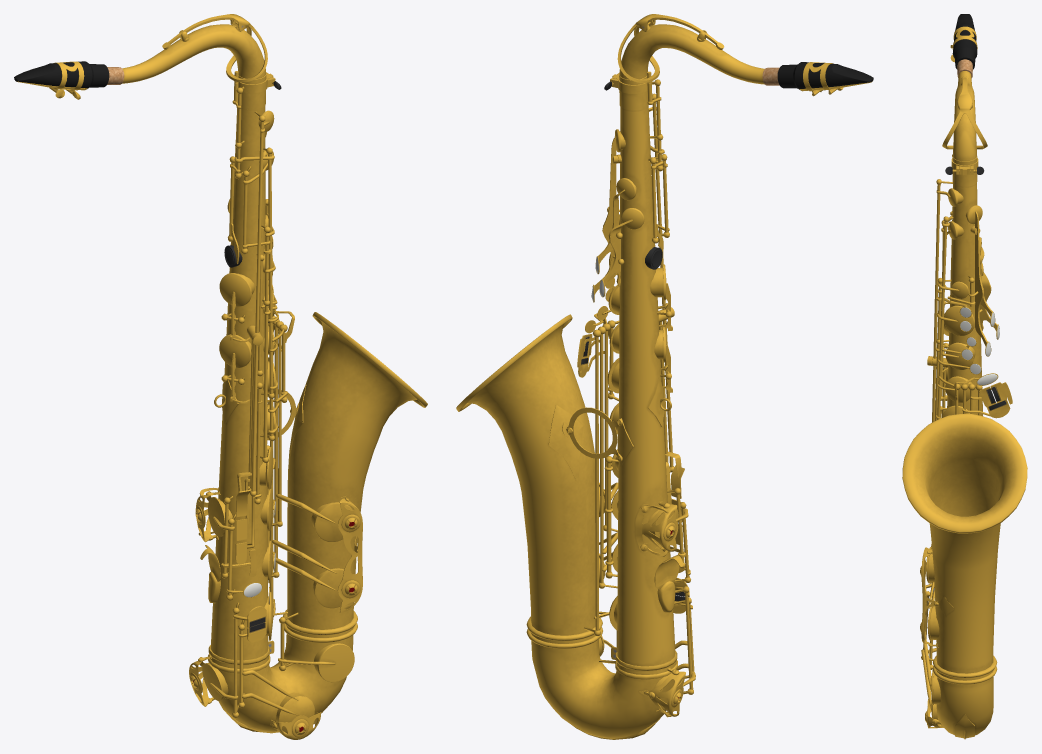
File: Saxophone.glb
3 views of the same model, side by side, from view 1: azimuth 30°, elevation 25°; view 2: azimuth 150°, elevation 25°; view 3: azimuth 270°, elevation 25° (orthographic). The views are drawn at different scales.
Visible parts, largest first — view 1: Saxophone; view 2: Saxophone; view 3: Saxophone.
Boxes of the visible parts, left/top/right/bottom form: Saxophone: left=14, top=14, right=427, bottom=739; Saxophone: left=456, top=14, right=873, bottom=739; Saxophone: left=902, top=14, right=1027, bottom=739.
Bounding box in the file's own units: 0.4764 × 0.8324 × 0.1519.
Materials: 1 (1 with a texture image).
